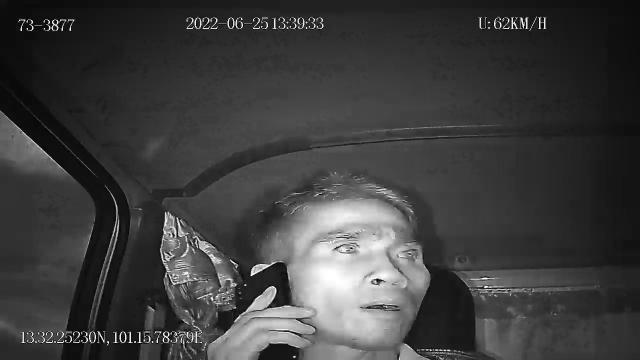PhoneUse: (232, 261, 298, 360)
SafeDriving: (325, 234, 370, 258), (387, 238, 428, 264)
